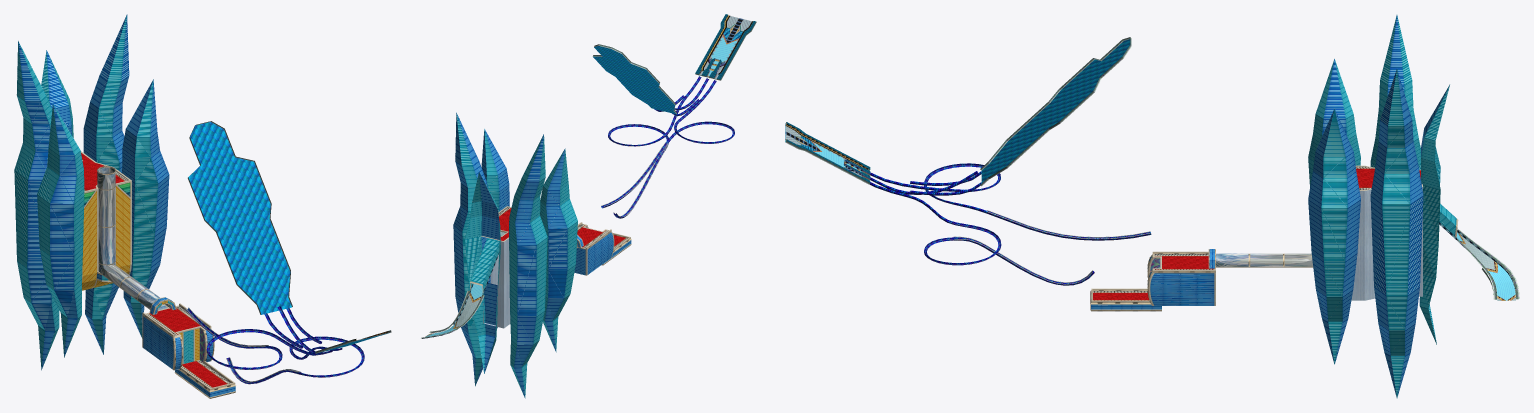
Rendered from Bingo_highway_2.obj.
The picture shows the model from 3 angles, left to right: view 1: azimuth 30°, elevation 25°; view 2: azimuth 150°, elevation 25°; view 3: azimuth 270°, elevation 25°; orthographic projection. The views are drawn at different scales.
Visible parts, largest first — view 1: obj2, obj1, obj3; view 2: obj2, obj1, obj3, Object_2; view 3: obj2, obj1, obj3.
Boxes of the visible parts, box(x1,y1,x2,y2) form: obj2: box(14, 14, 391, 398); obj1: box(97, 167, 364, 384); obj3: box(81, 151, 230, 387); obj2: box(421, 14, 756, 398); obj1: box(576, 76, 734, 247); obj3: box(425, 206, 627, 336); Object_2: box(701, 15, 752, 74); obj2: box(785, 15, 1519, 398); obj1: box(869, 163, 1312, 285); obj3: box(1093, 165, 1515, 300).
Bounding box in the file's own units: 935 × 2028 × 3940.
